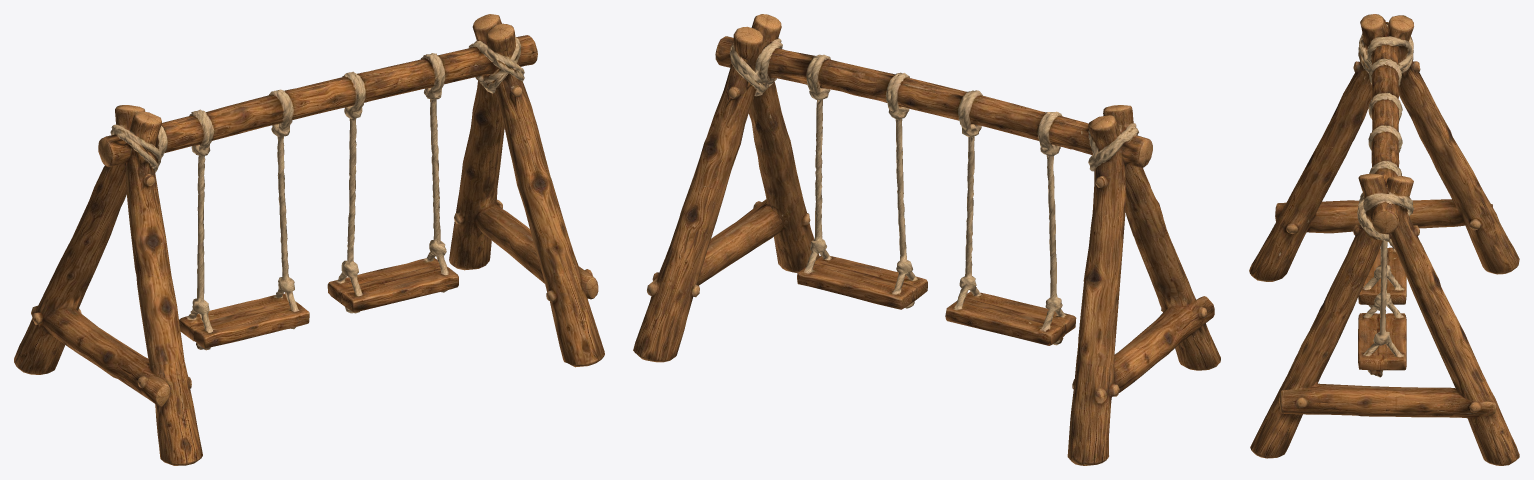
File: salincak.glb
3 views of the same model, side by side, from view 1: azimuth 30°, elevation 25°; view 2: azimuth 150°, elevation 25°; view 3: azimuth 270°, elevation 25° (orthographic). The views are drawn at different scales.
Bounding box in the file's own units: 1.9 × 1.15 × 1.04.
1 material, 1 textured.
